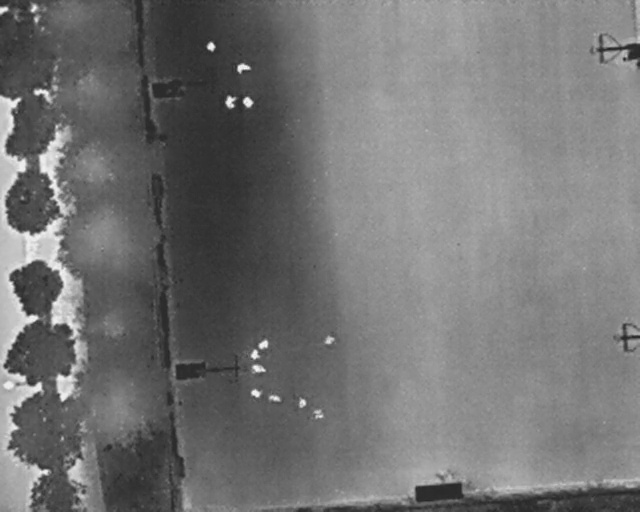Person: (248, 386, 264, 400), (235, 62, 253, 74), (249, 363, 267, 375), (256, 338, 271, 352), (224, 95, 238, 109), (241, 94, 255, 108), (312, 408, 325, 420), (324, 334, 336, 346), (267, 394, 283, 403), (206, 40, 216, 54), (249, 348, 261, 359), (297, 397, 308, 408)
